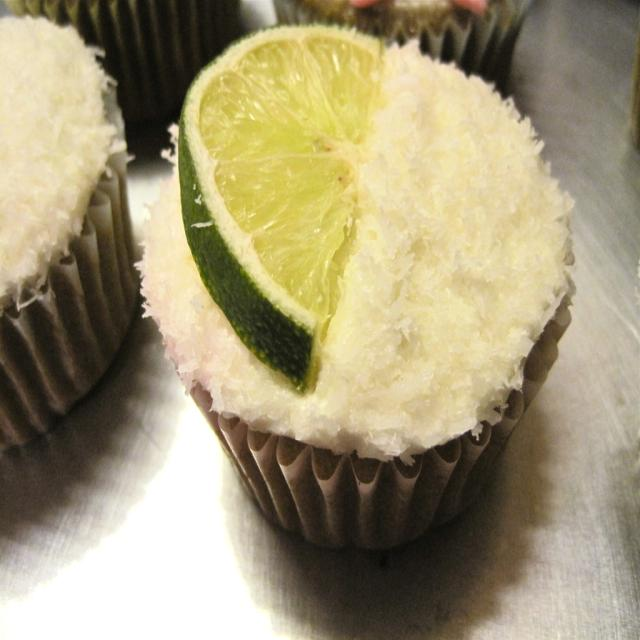Lemon: (175, 15, 382, 392)
